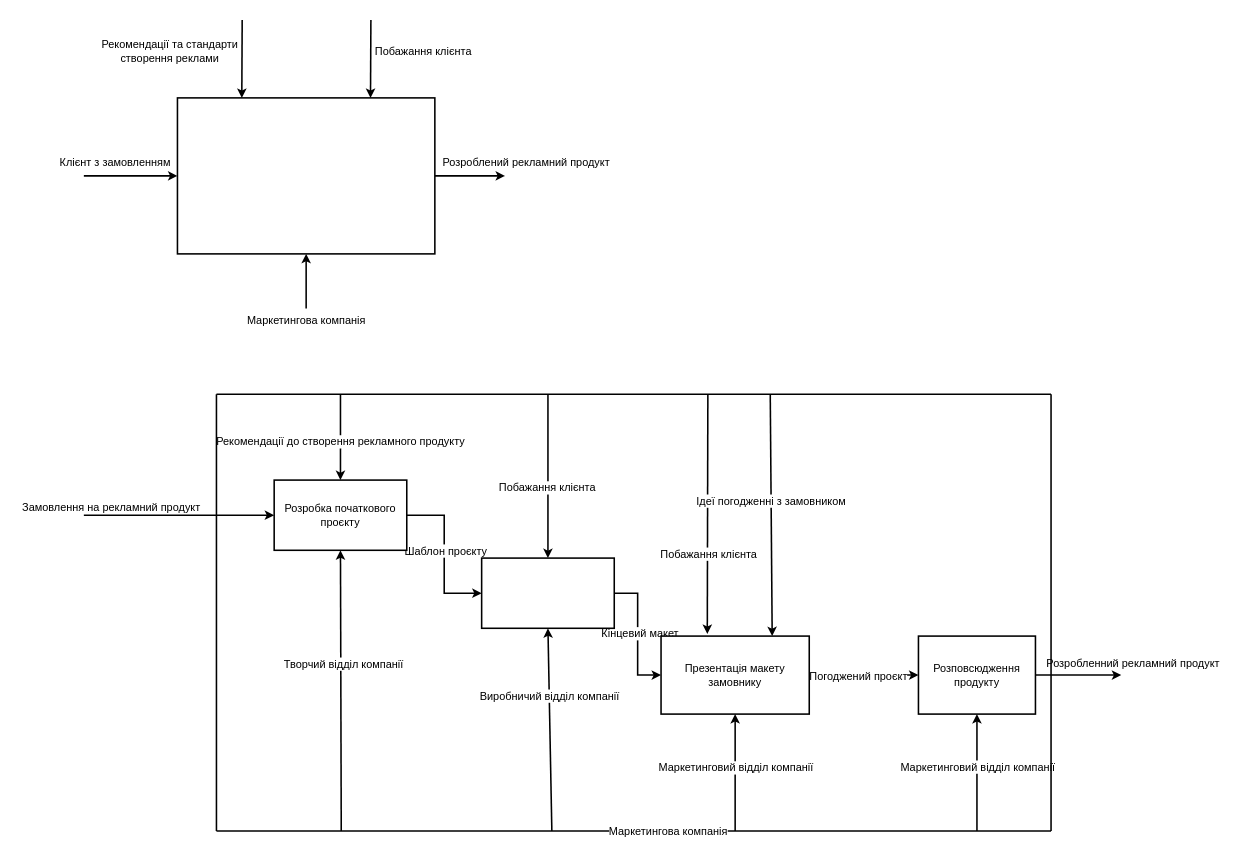
Image size: 1243x851. Some labels were removed from this diagram. Each missing label, with the box of its shape:
Розробка реклами: (176, 97, 435, 254)
Створення кінцевого макету: (480, 557, 615, 629)
